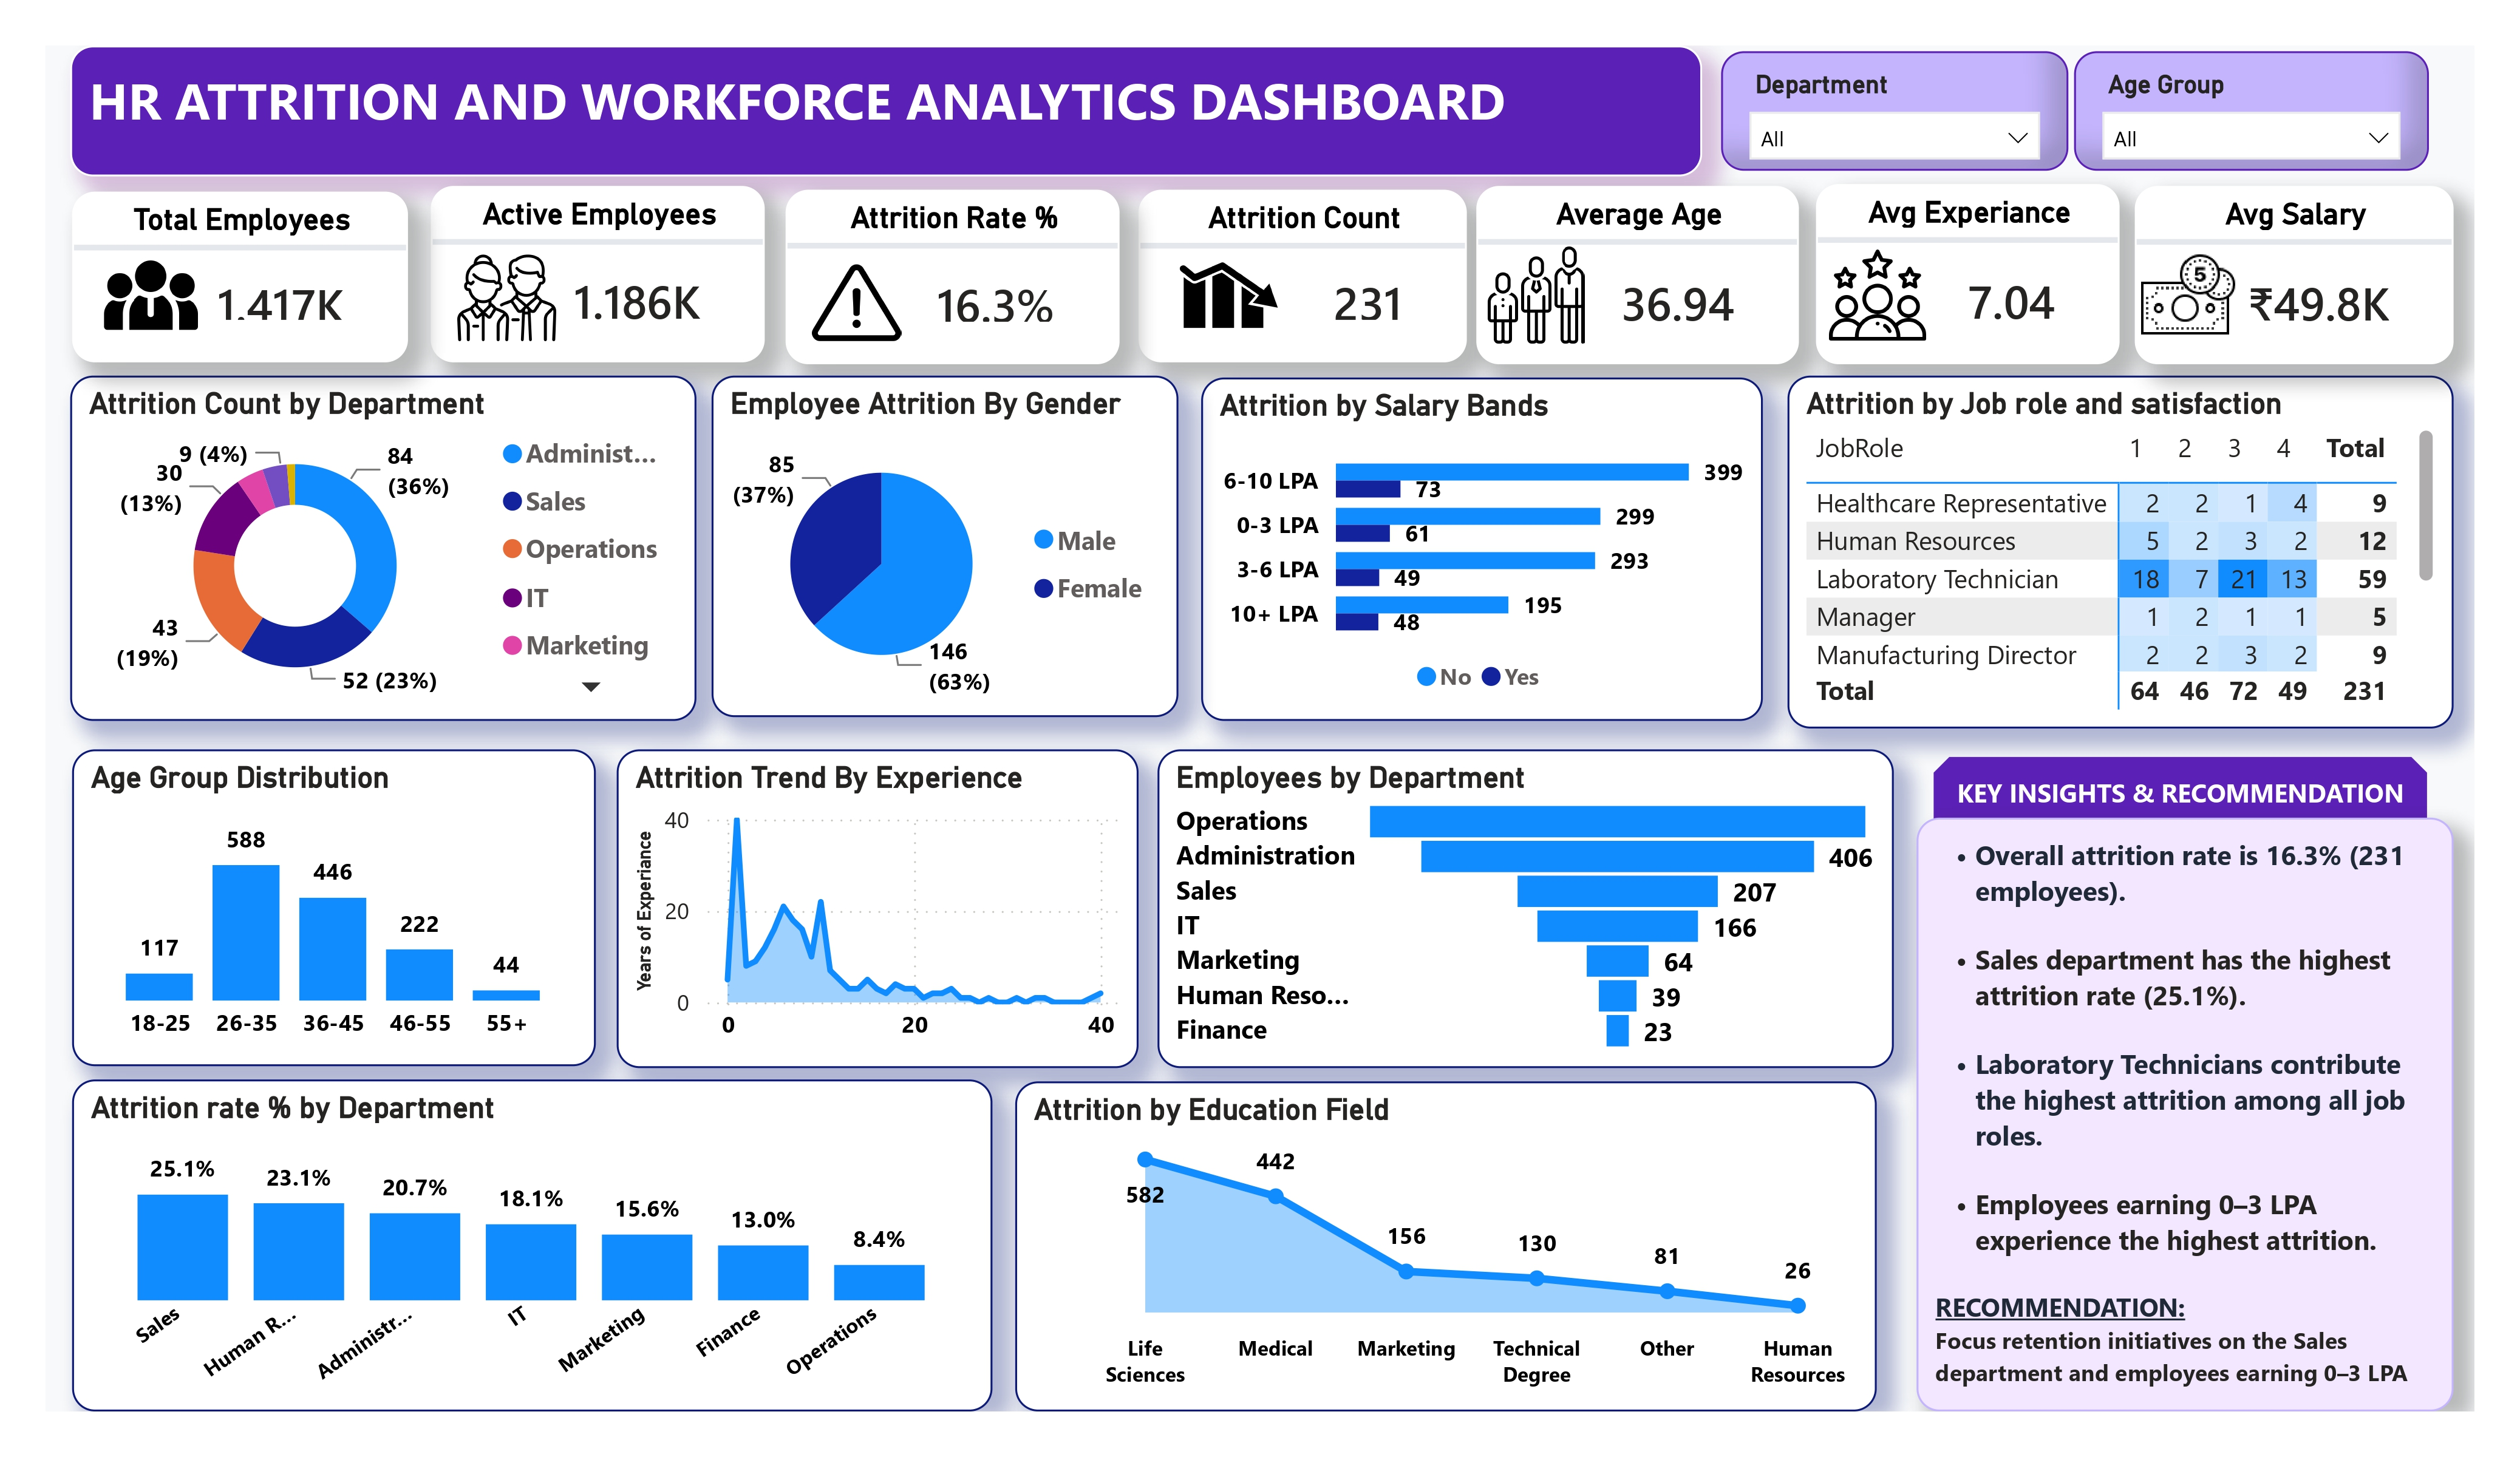

The page's visual inventory and layout, read from the dashboard file:
{"tool":"powerbi","page":{"name":"Page 1","canvas":[1280,720],"ordinal":0},"visuals":[{"type":"textbox","box":[12.9,0,860,68.6],"z":0},{"type":"cardVisual","title":"Active Employees","fields":{"Data":["CountNonNull(HR_Analytics-4.EmployeeCount)"]},"box":[202.9,74.3,175.7,92.9],"z":1000},{"type":"cardVisual","title":"Attrition Count","fields":{"Data":["Sum(HR_Analytics-4.ATTRITIONCOUNT)"]},"box":[575.7,75.7,172.9,91.4],"z":2000},{"type":"cardVisual","title":"Attrition Rate %","fields":{"Data":["HR_Analytics-4.attrition rate %"]},"box":[390,76,176,92],"z":3000},{"type":"cardVisual","title":"Average Age","fields":{"Data":["Avg(HR_Analytics-4.Age)"]},"box":[753.8,73.8,170,93.8],"z":4000},{"type":"cardVisual","title":"Avg Experiance","fields":{"Data":["Avg(HR_Analytics-4.YearsatCompany)"]},"box":[932.5,72.5,160,95],"z":5000},{"type":"donutChart","title":" Attrition Count by Department","fields":{"Category":["HR_Analytics-4.Department"],"Y":["Sum(HR_Analytics-4.ATTRITIONCOUNT)"]},"box":[13.3,174.4,330,181.1],"z":6000},{"type":"clusteredBarChart","title":"Attrition by Salary Bands","fields":{"Category":["HR_Analytics-4.SalarySlab"],"Y":["CountNonNull(HR_Analytics-4.EmpID)"],"Series":["HR_Analytics-4.Attrition"]},"box":[608.8,175,296.2,181.2],"z":7000},{"type":"pivotTable","title":"Attrition by Job role and satisfaction","fields":{"Rows":["HR_Analytics-4.JobRole"],"Values":["Sum(HR_Analytics-4.ATTRITIONCOUNT)"],"Columns":["HR_Analytics-4.JobSatisfaction"]},"box":[917.8,174.4,351.1,185.6],"z":8000},{"type":"columnChart","title":"Age Group Distribution","fields":{"Category":["HR_Analytics-4.AgeGroup"],"Y":["CountNonNull(HR_Analytics-4.EmpID)"]},"box":[14,370.9,275.6,167.4],"z":9000},{"type":"pieChart","title":"Employee Attrition By Gender","fields":{"Category":["HR_Analytics-4.Gender"],"Y":["Sum(HR_Analytics-4.ATTRITIONCOUNT)"]},"box":[351.1,174.4,245.6,180],"z":10000},{"type":"areaChart","title":"Attrition Trend By Experience","fields":{"Category":["HR_Analytics-4.TotalExperience(Years)"],"Y":["Sum(HR_Analytics-4.ATTRITIONCOUNT)"]},"box":[301.1,371.1,274.4,167.8],"z":11000},{"type":"funnel","title":"Employees by Department","fields":{"Category":["HR_Analytics-4.Department"],"Y":["CountNonNull(HR_Analytics-4.EmpID)"]},"box":[586.2,371.2,387.5,167.5],"z":12000},{"type":"slicer","fields":{"Values":["HR_Analytics-4.Department"]},"box":[882.9,2.9,182.9,62.9],"z":13000},{"type":"cardVisual","title":"Avg Salary","fields":{"Data":["Avg(HR_Analytics-4.MonthlyIncome)"]},"box":[1101.2,73.8,167.5,93.8],"z":14000},{"type":"columnChart","title":"Attrition rate % by Department","fields":{"Y":["HR_Analytics-4.attrition rate %"],"Category":["HR_Analytics-4.Department"]},"box":[13.8,545,485,175],"z":15000},{"type":"lineChart","title":"Attrition by Education Field","fields":{"Category":["HR_Analytics-4.EducationField"],"Y":["CountNonNull(HR_Analytics-4.ATTRITIONCOUNT)"]},"box":[511.2,546.2,453.8,173.8],"z":16000},{"type":"cardVisual","title":"Total Employees","fields":{"Data":["CountNonNull(HR_Analytics-4.EmpID)"]},"box":[14.3,77.1,177.1,90],"z":17000},{"type":"slicer","fields":{"Values":["HR_Analytics-4.AgeGroup"]},"box":[1068.6,2.9,187.1,62.9],"z":18000},{"type":"image","box":[29.4,102.8,53.1,56.5],"z":19000},{"type":"image","box":[597.1,102.9,52.9,57.1],"z":20000},{"type":"image","box":[1100.9,103.9,53.1,56.5],"z":21000},{"type":"image","box":[934.9,106.1,59.8,50.8],"z":22000},{"type":"image","box":[757.1,105.7,55.7,51.4],"z":23000},{"type":"image","box":[217.1,104.3,51.4,57.1],"z":24000},{"type":"image","box":[404.3,108.6,47.1,52.9],"z":25000},{"type":"shape","title":"KEY INSIGHTS","box":[995,375,260,32.5],"z":26000},{"type":"textbox","box":[985.7,407.1,282.9,312.9],"z":28000}]}

Visuals, with their boxes on the page's 1280x720 design canvas (x1, y1, x2, y2). These are canvas units, not pixel positions in the 2520x1457 screenshot, which may show the page scaled, cropped or inside an application window:
textbox: box(13, 0, 873, 69)
"Active Employees" cardVisual: box(203, 74, 379, 167)
"Attrition Count" cardVisual: box(576, 76, 749, 167)
"Attrition Rate %" cardVisual: box(390, 76, 566, 168)
"Average Age" cardVisual: box(754, 74, 924, 168)
"Avg Experiance" cardVisual: box(932, 72, 1092, 168)
" Attrition Count by Department" donutChart: box(13, 174, 343, 356)
"Attrition by Salary Bands" clusteredBarChart: box(609, 175, 905, 356)
"Attrition by Job role and satisfaction" pivotTable: box(918, 174, 1269, 360)
"Age Group Distribution" columnChart: box(14, 371, 290, 538)
"Employee Attrition By Gender" pieChart: box(351, 174, 597, 354)
"Attrition Trend By Experience" areaChart: box(301, 371, 576, 539)
"Employees by Department" funnel: box(586, 371, 974, 539)
slicer - HR_Analytics-4.Department: box(883, 3, 1066, 66)
"Avg Salary" cardVisual: box(1101, 74, 1269, 168)
"Attrition rate % by Department" columnChart: box(14, 545, 499, 720)
"Attrition by Education Field" lineChart: box(511, 546, 965, 720)
"Total Employees" cardVisual: box(14, 77, 191, 167)
slicer - HR_Analytics-4.AgeGroup: box(1069, 3, 1256, 66)
image: box(29, 103, 82, 159)
image: box(597, 103, 650, 160)
image: box(1101, 104, 1154, 160)
image: box(935, 106, 995, 157)
image: box(757, 106, 813, 157)
image: box(217, 104, 268, 161)
image: box(404, 109, 451, 162)
"KEY INSIGHTS" shape: box(995, 375, 1255, 408)
textbox: box(986, 407, 1269, 720)
